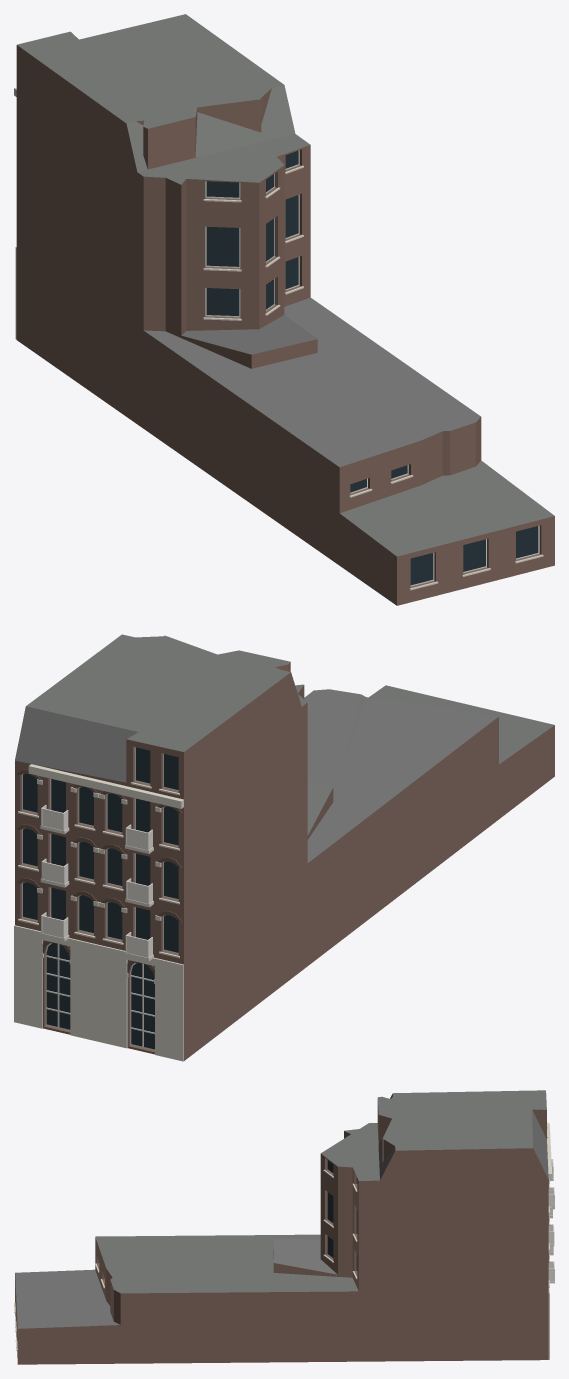
File: recipe-large-haarlemmerweg-201-160400.glb
3 views of the same model, one above another, from view 1: azimuth 30°, elevation 25°; view 2: azimuth 150°, elevation 25°; view 3: azimuth 270°, elevation 25° (orthographic). The views are drawn at different scales.
Visible parts, largest first — view 1: haarlemmerweg-201-160400; view 2: haarlemmerweg-201-160400; view 3: haarlemmerweg-201-160400.
Boxes of the visible parts, left/top/right/bottom form: haarlemmerweg-201-160400: left=14, top=14, right=554, bottom=605; haarlemmerweg-201-160400: left=14, top=634, right=554, bottom=1061; haarlemmerweg-201-160400: left=14, top=1090, right=554, bottom=1364.
Size of the model in its own units: 10.86 by 17.73 by 40.73.
